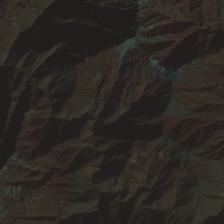landslides: (193, 63, 218, 86), (120, 40, 133, 69), (8, 158, 32, 169), (195, 71, 210, 84), (191, 74, 203, 89), (175, 97, 188, 107), (11, 22, 21, 33), (180, 80, 192, 89)
